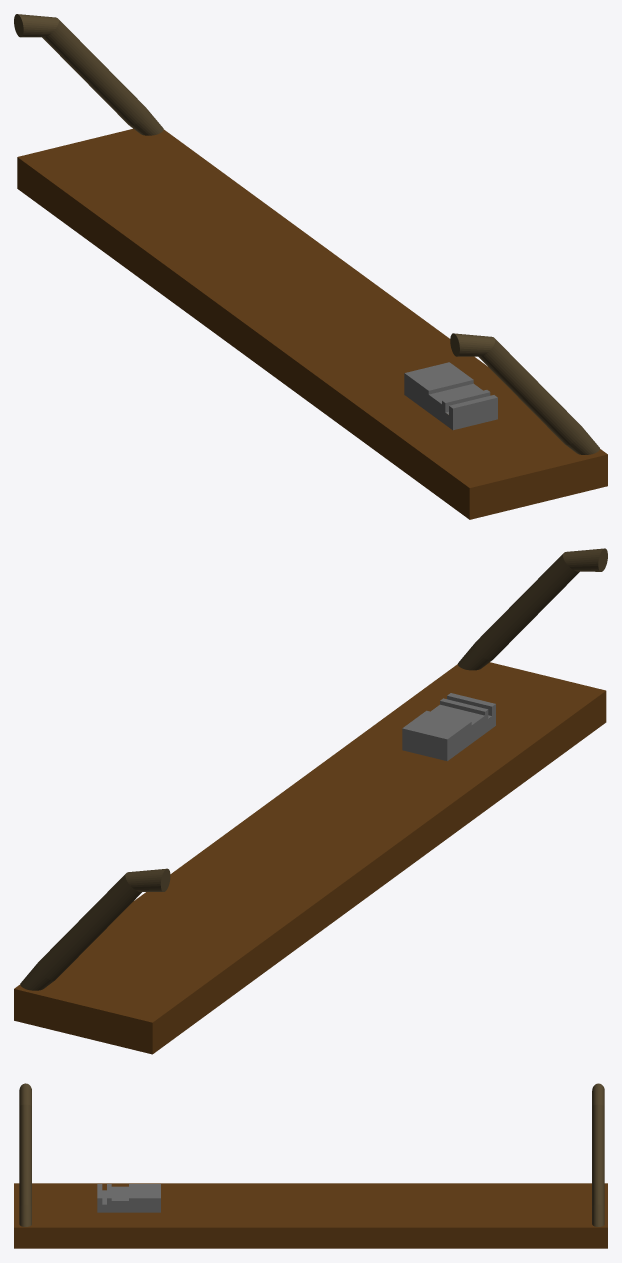
File: werkbalk 1.fbx
3 views of the same model, one above another, from view 1: azimuth 30°, elevation 25°; view 2: azimuth 150°, elevation 25°; view 3: azimuth 270°, elevation 25° (orthographic). The views are drawn at different scales.
Visible parts, largest first — view 1: Cube, Cylinder.001, Cylinder.002, Cube.001; view 2: Cube, Cylinder.002, Cylinder.001, Cube.001; view 3: Cube, Cylinder.002, Cylinder.001, Cube.001.
Part boxes in pixels (left/top/right/bottom): Cube: left=17, top=128, right=607, bottom=519; Cylinder.001: left=14, top=14, right=163, bottom=135; Cylinder.002: left=450, top=333, right=599, bottom=454; Cube.001: left=404, top=362, right=497, bottom=430; Cube: left=14, top=662, right=606, bottom=1054; Cylinder.002: left=458, top=548, right=607, bottom=670; Cylinder.001: left=20, top=868, right=170, bottom=990; Cube.001: left=402, top=693, right=495, bottom=761; Cube: left=14, top=1183, right=607, bottom=1248; Cylinder.002: left=19, top=1083, right=31, bottom=1226; Cylinder.001: left=592, top=1083, right=604, bottom=1226; Cube.001: left=97, top=1184, right=160, bottom=1212.
Bounding box in the file's own units: 132 × 158 × 715.
